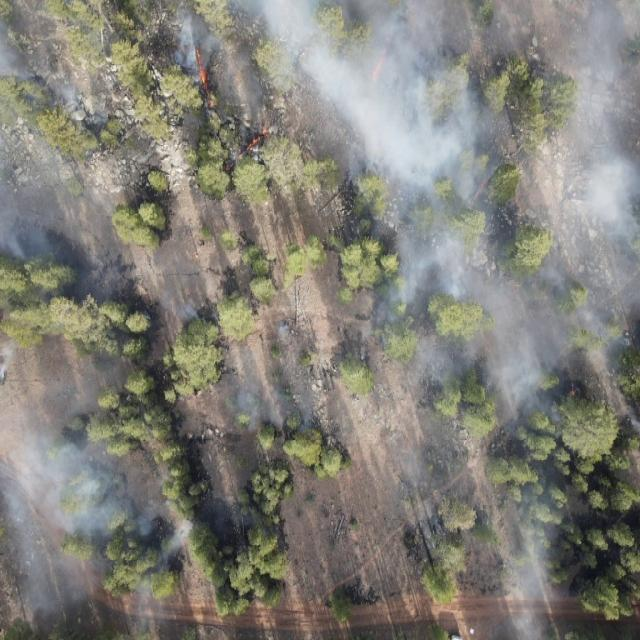fire: (196, 48, 218, 111), (233, 127, 271, 162), (371, 40, 391, 80), (472, 178, 488, 204), (569, 388, 577, 398), (226, 162, 233, 172)
smoke: (252, 0, 640, 190), (397, 371, 601, 640), (355, 190, 640, 370), (0, 410, 197, 640), (0, 0, 114, 134), (0, 186, 120, 304), (164, 0, 249, 112), (231, 365, 321, 437), (154, 283, 220, 332), (266, 316, 296, 344)
